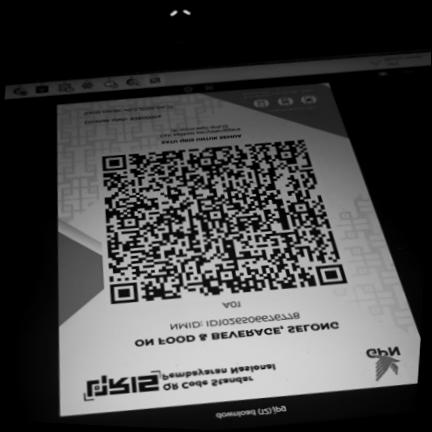Cara Pakai QRIS: (238, 84, 329, 118)
Cek Aplikasi Penyelenggara: (158, 121, 244, 139)
Dicetak Oleh: (81, 113, 164, 127)
Logo GPN: (353, 339, 412, 386)
Logo dan deskripsi QRIS: (78, 355, 288, 408)
Nama Merchant: (128, 318, 347, 351)
National Merchant ID: (165, 308, 305, 334)
QR Code: (97, 138, 354, 308)
Slogan: (159, 132, 247, 147)
Terminal ID: (218, 298, 246, 312)
Versi Cetak: (82, 102, 179, 119)
